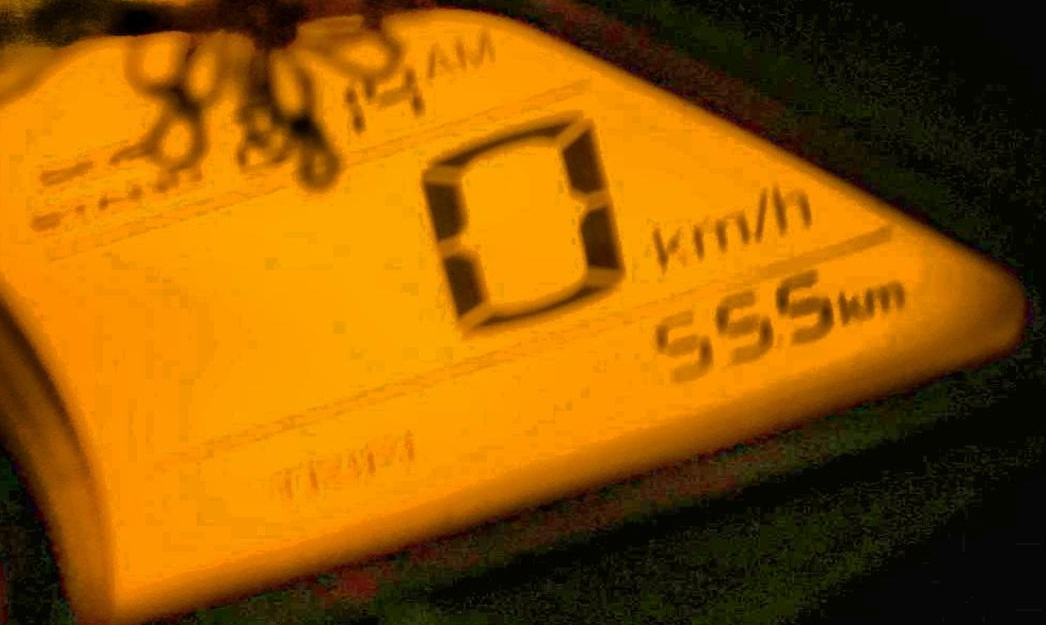0: (423, 116, 631, 328)
5: (650, 310, 709, 380), (777, 268, 833, 338), (715, 288, 767, 363)
X: (692, 211, 746, 259), (647, 219, 690, 278), (770, 179, 817, 231), (264, 459, 302, 514), (307, 447, 346, 494), (361, 430, 399, 477), (748, 184, 775, 249), (865, 281, 909, 314), (453, 35, 495, 65), (422, 41, 457, 76), (839, 286, 862, 328), (346, 438, 362, 484)
